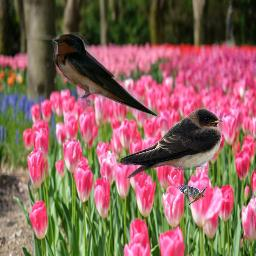Swallow: (51, 32, 159, 118), (119, 108, 224, 180)
Woodpecker: (178, 184, 207, 206)
